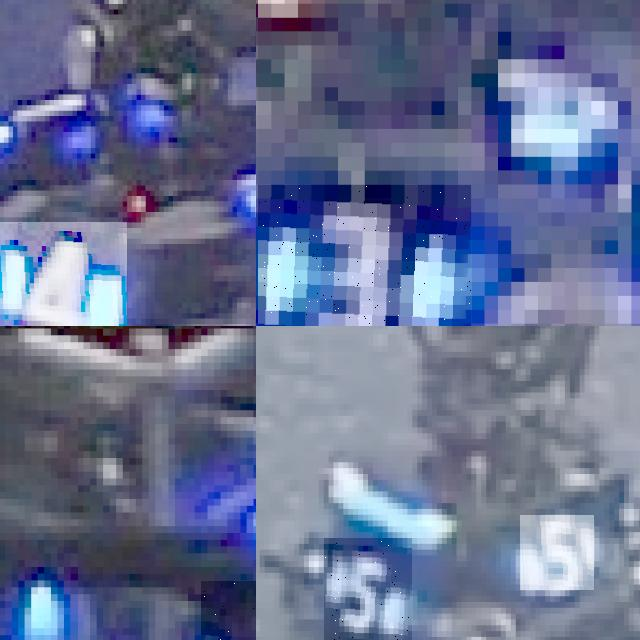B3: (257, 184, 471, 326)
B4: (0, 222, 127, 326)
B5: (323, 538, 412, 640), (520, 515, 594, 590)
